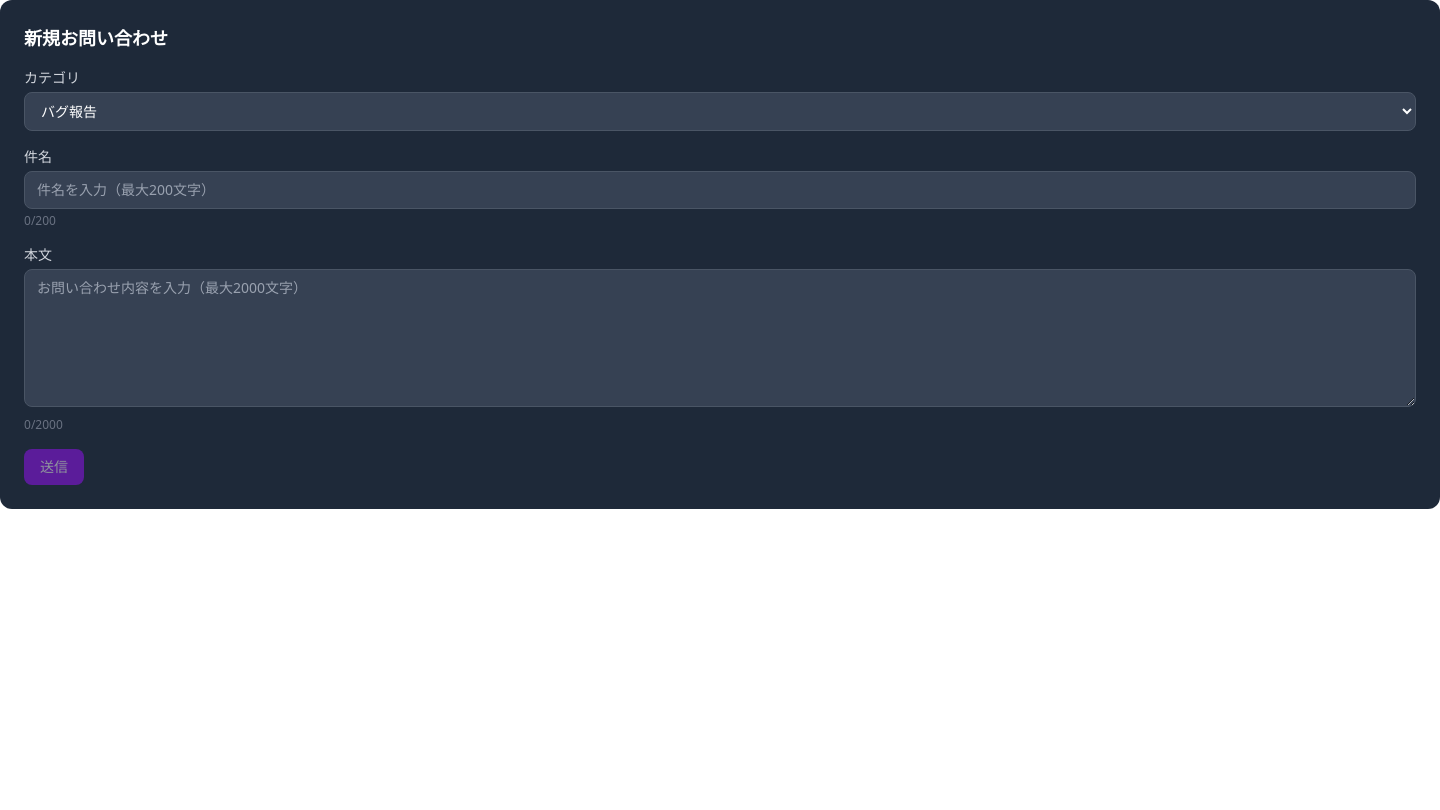
Test: InquiryForm maintenance integration › 事前disableをすり抜けて書き込みが503(maintenance)で拒否された場合、サーバーの案内文言を表示する
The width and height of the screenshot is (1440, 810).
Type "テスト件名" into the field with placeholder "件名を入力（最大200文字）" at [720, 190], box [24,171,1416,209]
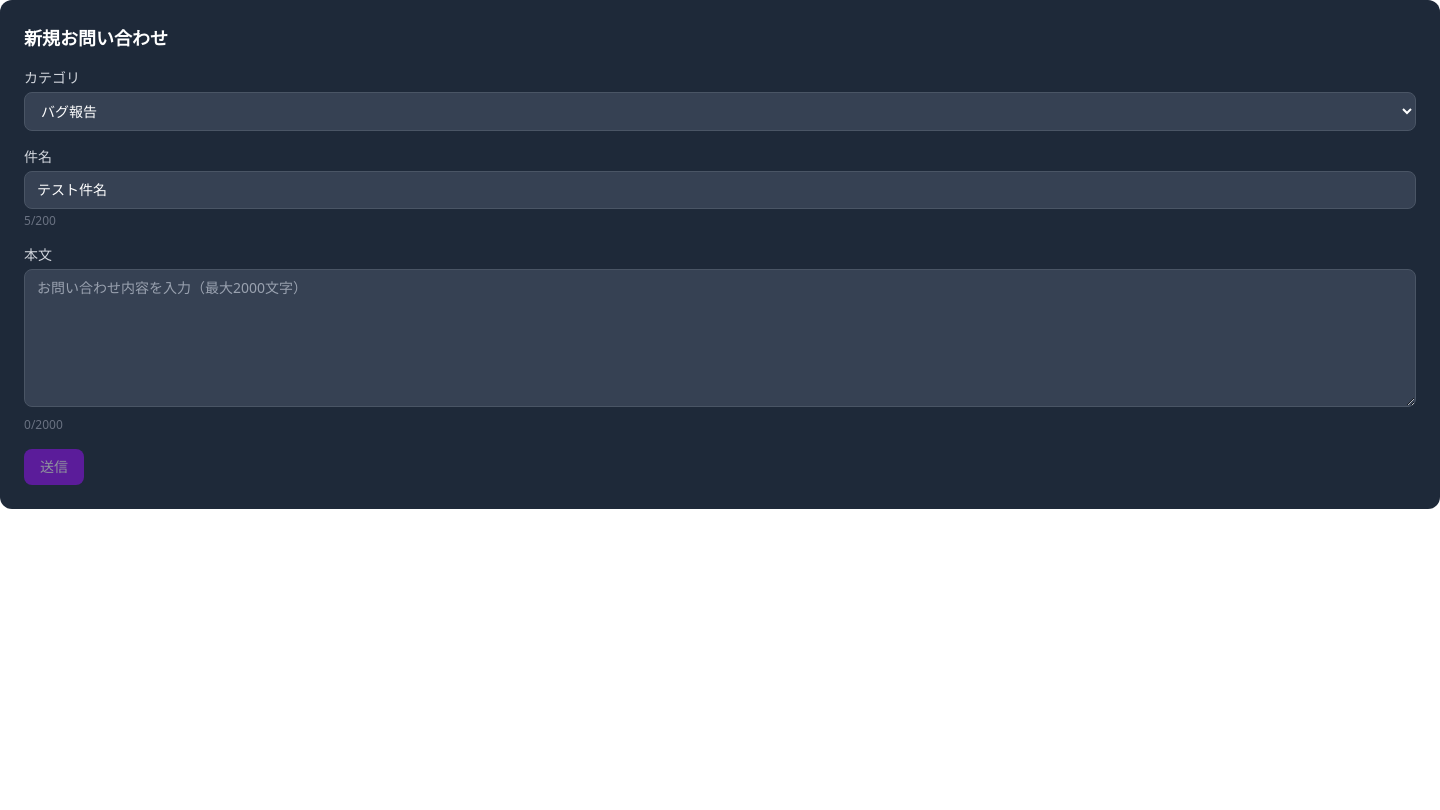
Type "テスト本文" into the text box with placeholder "お問い合わせ内容を入力（最大2000文字）" at [720, 338], box [24,269,1416,407]
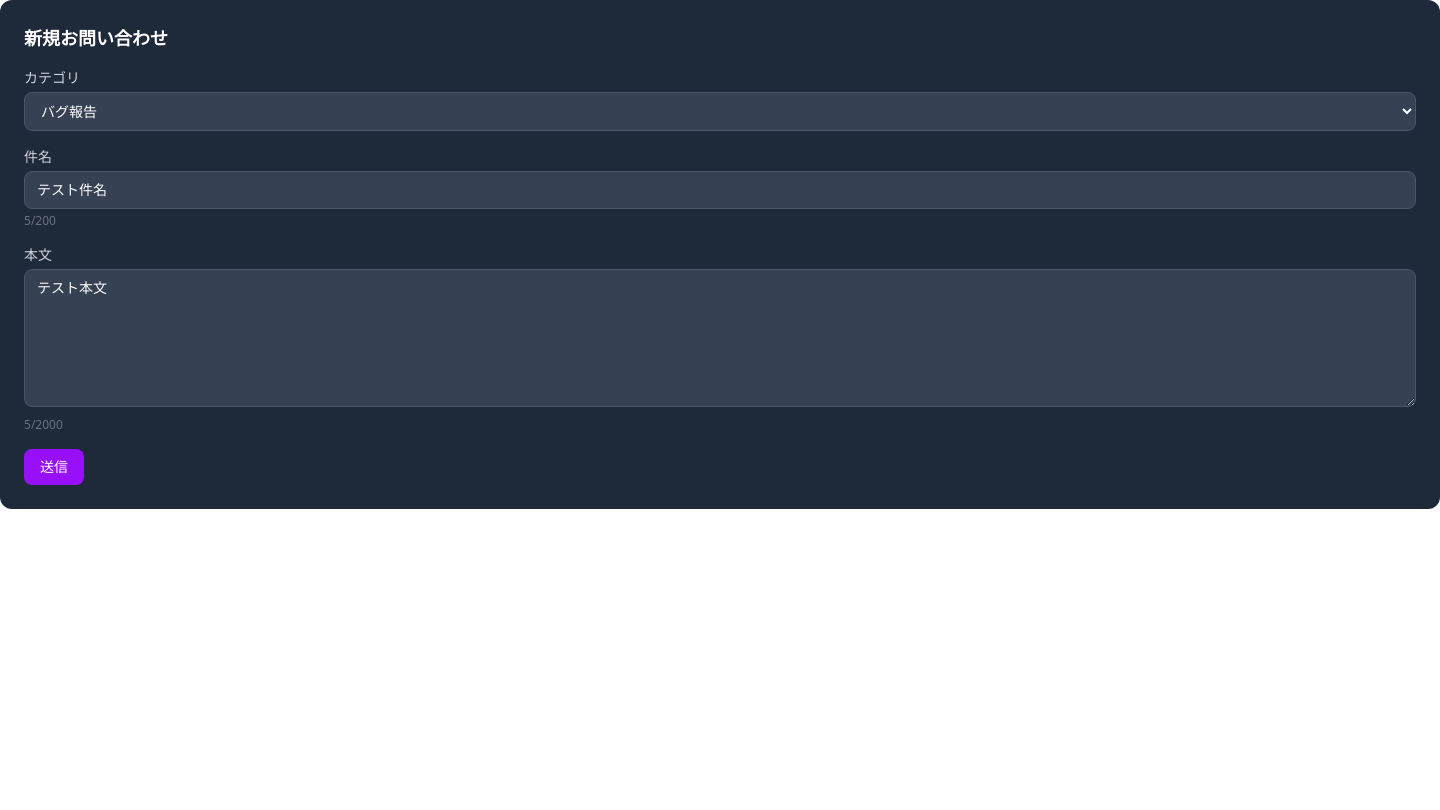
Click the button "送信" at [54, 467], box [24,449,84,485]
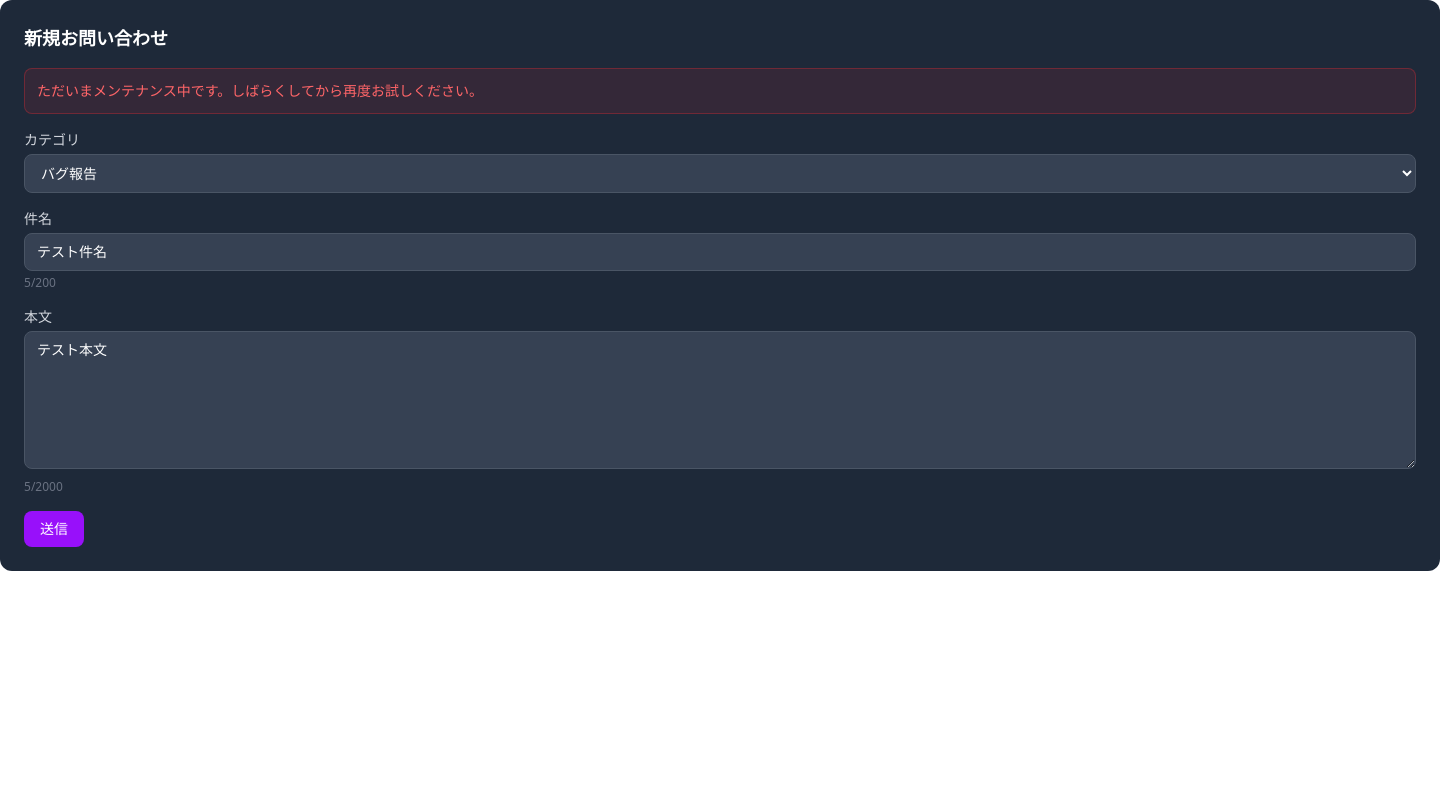
Result: the text "ただいまメンテナンス中です。しばらくしてから再度お試しください。" is shown at [24,68,1416,114]
